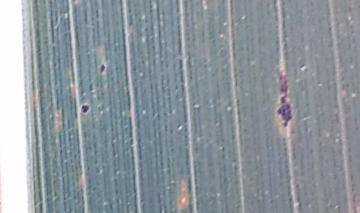tarspot: (274, 70, 296, 131), (79, 103, 90, 115), (97, 63, 107, 74)
